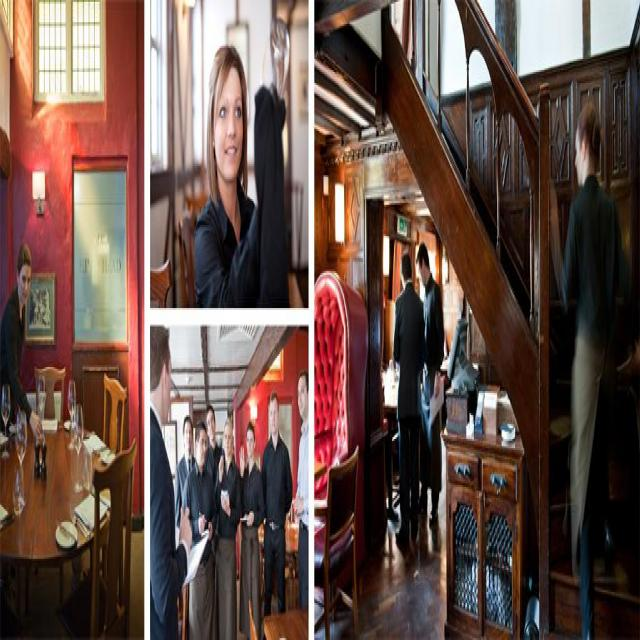nomask: (214, 82, 242, 180), (159, 359, 170, 427), (574, 131, 586, 186), (19, 268, 30, 304), (297, 384, 307, 416), (199, 432, 206, 464), (270, 405, 276, 432), (184, 428, 191, 450), (247, 432, 253, 457), (224, 427, 230, 451), (207, 419, 214, 437)
